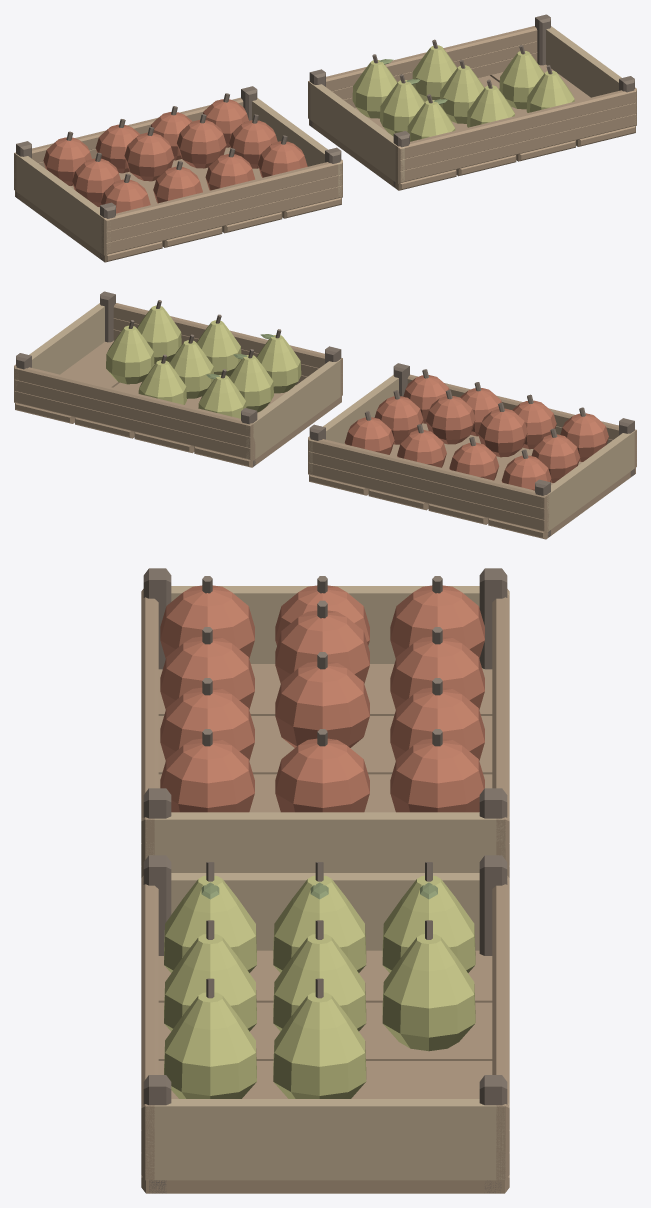
File: Fruit.fbx
3 views of the same model, one above another, from view 1: azimuth 30°, elevation 25°; view 2: azimuth 150°, elevation 25°; view 3: azimuth 270°, elevation 25° (orthographic). The views are drawn at different scales.
Parts seen in each view (by area): view 1: Body__Timber.002, Body__Apple, Body__TimberLight.002, Body__Pear, Body__TimberDark.002; view 2: Body__Timber.002, Body__Apple, Body__Pear, Body__TimberLight.002, Body__TimberDark.002; view 3: Body__TimberLight.002, Body__Apple, Body__Pear, Body__Timber.002, Body__TimberDark.002.
Boxes of the visible parts, bbox=[...] form: Body__Timber.002: bbox=[14, 26, 636, 262]; Body__Apple: bbox=[43, 99, 307, 213]; Body__TimberLight.002: bbox=[14, 26, 636, 254]; Body__Pear: bbox=[352, 45, 574, 141]; Body__TimberDark.002: bbox=[16, 14, 634, 261]; Body__Timber.002: bbox=[14, 303, 636, 539]; Body__Apple: bbox=[344, 375, 608, 490]; Body__Pear: bbox=[106, 305, 301, 418]; Body__TimberLight.002: bbox=[14, 303, 636, 531]; Body__TimberDark.002: bbox=[16, 291, 634, 537]; Body__TimberLight.002: bbox=[141, 586, 509, 1180]; Body__Apple: bbox=[160, 585, 484, 812]; Body__Pear: bbox=[164, 875, 475, 1098]; Body__Timber.002: bbox=[141, 589, 509, 1193]; Body__TimberDark.002: bbox=[143, 568, 507, 1193].
Size of the model in its own units: 2.14 by 0.3101 by 0.64.
